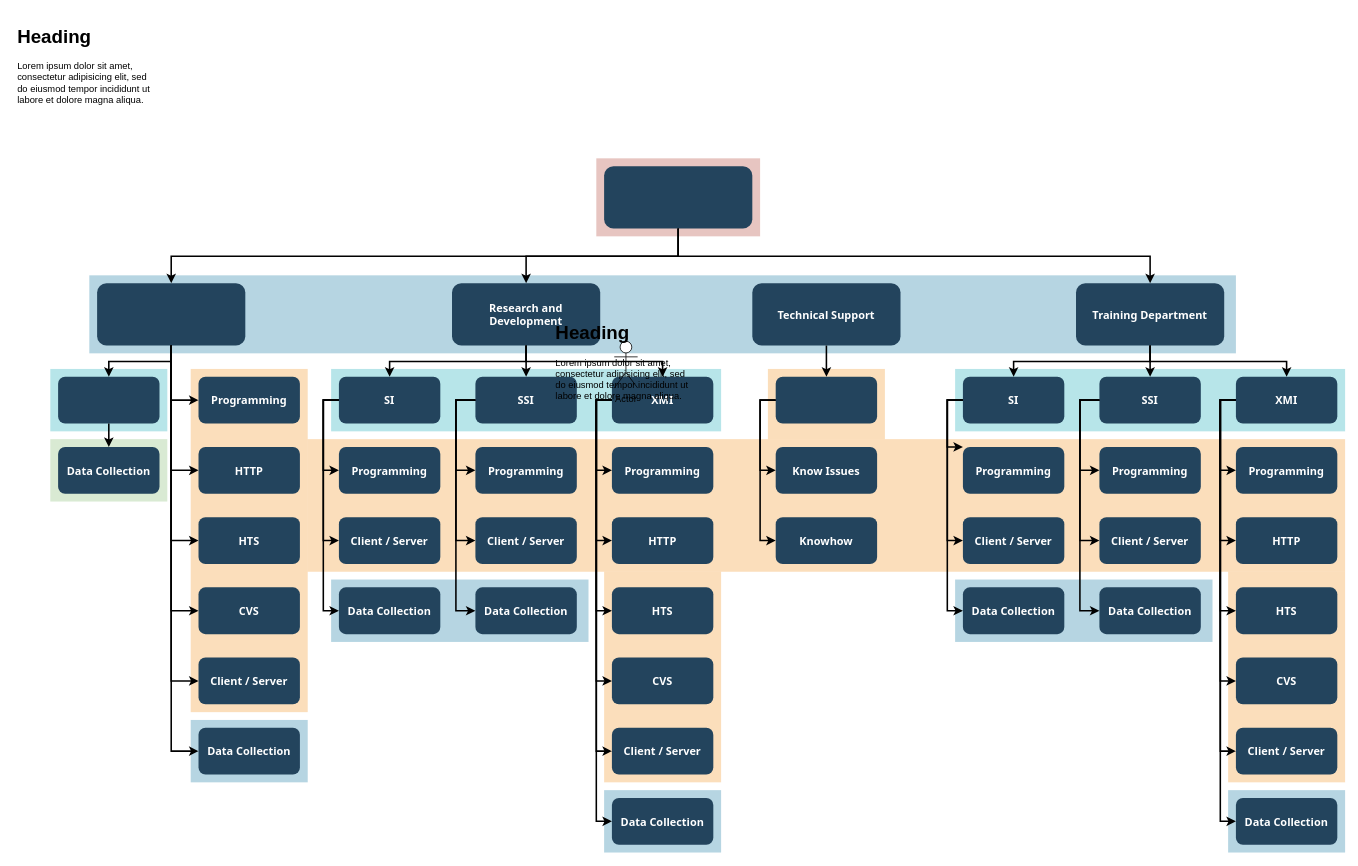
The diagram is 1358 pixels wide and 866 high, and some of its shapes have lost their labels. The centre of each missing label's shape, as x and y in pixels:
"FAQ" belongs at (x=826, y=399).
"Head of Development" belongs at (x=678, y=197).
"Human Resources" belongs at (x=171, y=314).
"Regular Report" belongs at (x=108, y=399).
